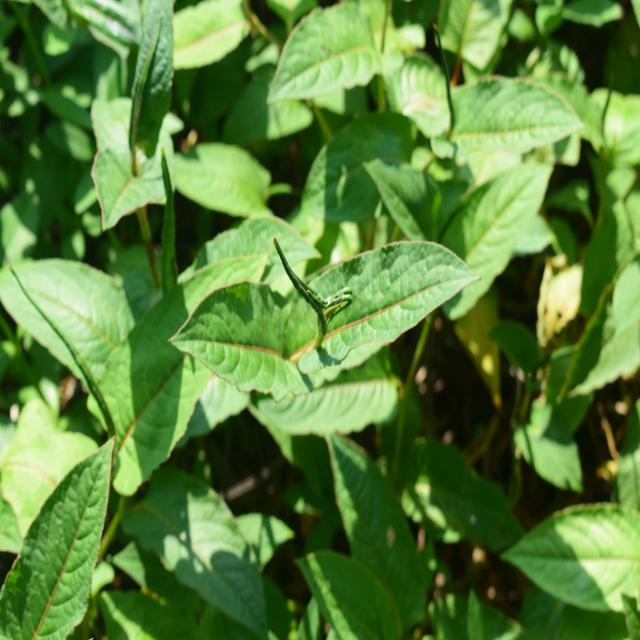Chinese_knotweed: (7, 252, 205, 619), (191, 207, 457, 479)
